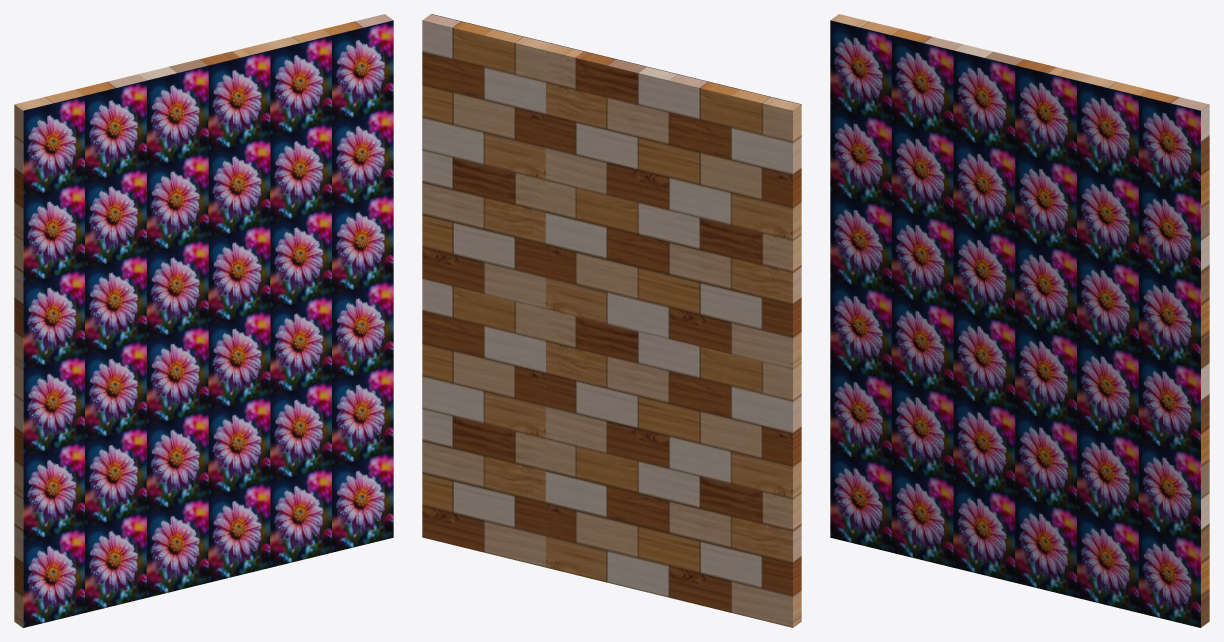
The model's file is wall.glb.
3 views of the same model, side by side, from view 1: azimuth 30°, elevation 25°; view 2: azimuth 150°, elevation 25°; view 3: azimuth 330°, elevation 25° (orthographic).
Visible parts, largest first — view 1: wall1_8x6, wall_8x6; view 2: wall_8x6; view 3: wall1_8x6, wall_8x6.
Boxes of the visible parts, <box> form: wall1_8x6: <box>23,20,393,627</box>; wall_8x6: <box>14,14,392,627</box>; wall_8x6: <box>422,14,801,627</box>; wall1_8x6: <box>830,20,1200,627</box>; wall_8x6: <box>830,14,1209,627</box>.
Size of the model in its own units: 6 by 8 by 0.2537.
2 materials, 2 textured.
